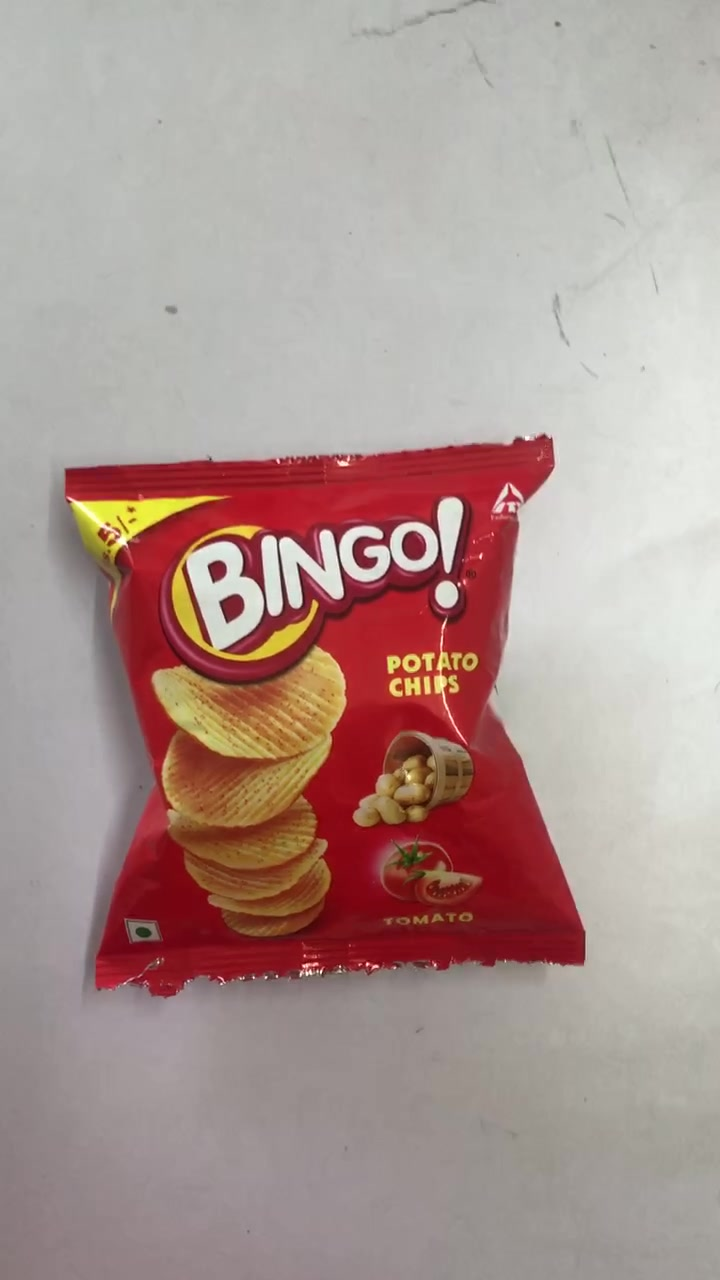Bingo: (67, 455, 591, 977)
